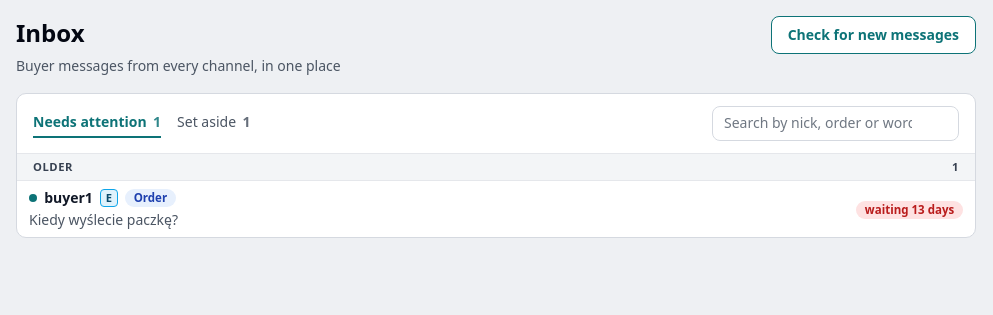
the inbox › a non-Allegro thread has no reply box
What coordinates should you click on to do the following:
click the button "buyer1 E Order Kiedy wyślecie paczkę? waiting 13 days"
I would click on:
 (69, 197)
Its box is x1=17 y1=180 x2=975 y2=237.
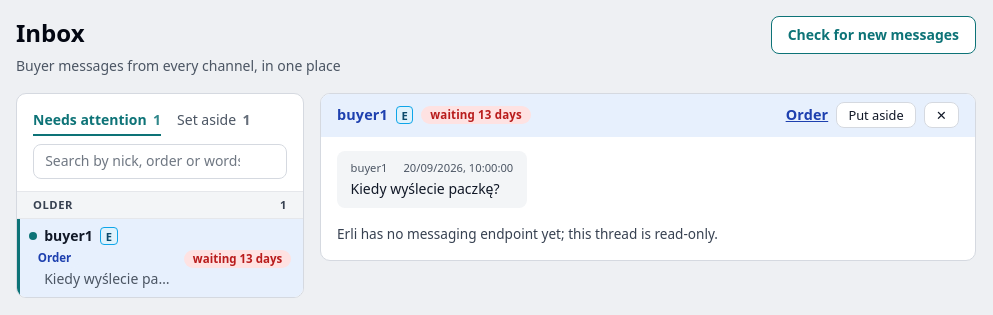
expect the text "Erli has no messaging endpoint yet; this thread is read-only." is shown: met, box x1=337 y1=224 x2=718 y2=243
